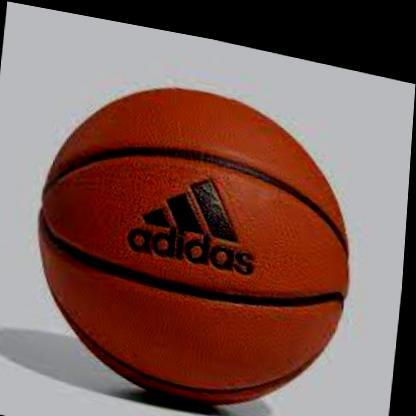basketball: (27, 53, 368, 416)
